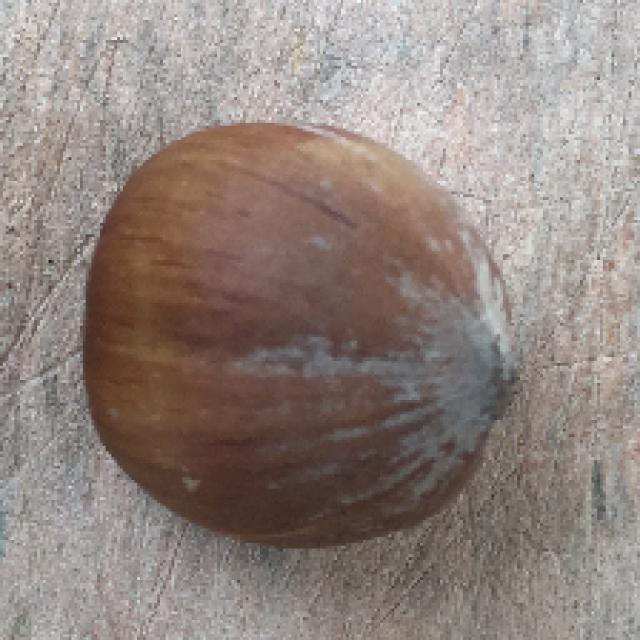qualityHazelnut: (84, 115, 526, 555)
